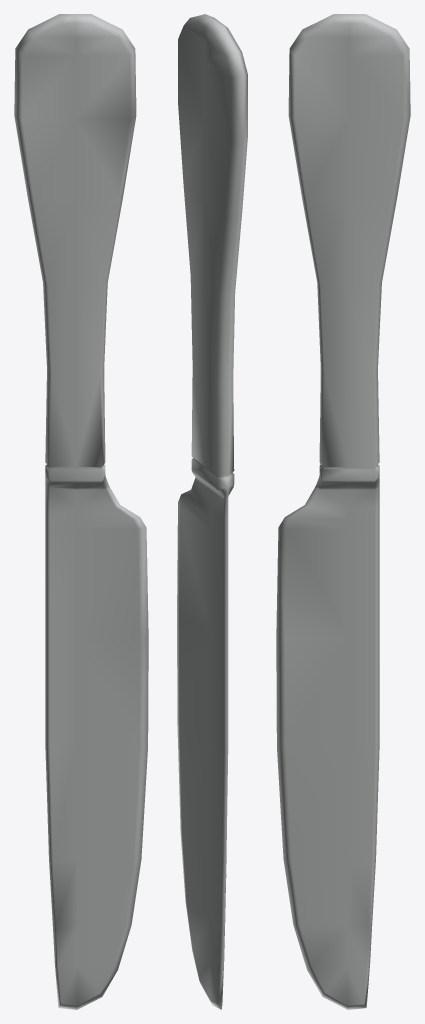
The model's file is MeshRobothorButterKnifeAi2_1_0.obj.
3 renders of one model, left to right at view 1: azimuth 90°, elevation 25°; view 2: azimuth 210°, elevation 25°; view 3: azimuth 270°, elevation 25°, orthographic.
Parts seen in each view (by area): view 1: RobothorButterKnifeAi2_1; view 2: RobothorButterKnifeAi2_1; view 3: RobothorButterKnifeAi2_1.
Boxes of the visible parts, x1=… form: RobothorButterKnifeAi2_1: x1=14, y1=14, x2=148, y2=1009; RobothorButterKnifeAi2_1: x1=177, y1=14, x2=247, y2=1009; RobothorButterKnifeAi2_1: x1=276, y1=14, x2=410, y2=1009.
Bounding box in the file's own units: 0.00424 × 0.2398 × 0.0293.
1 material, 1 textured.
